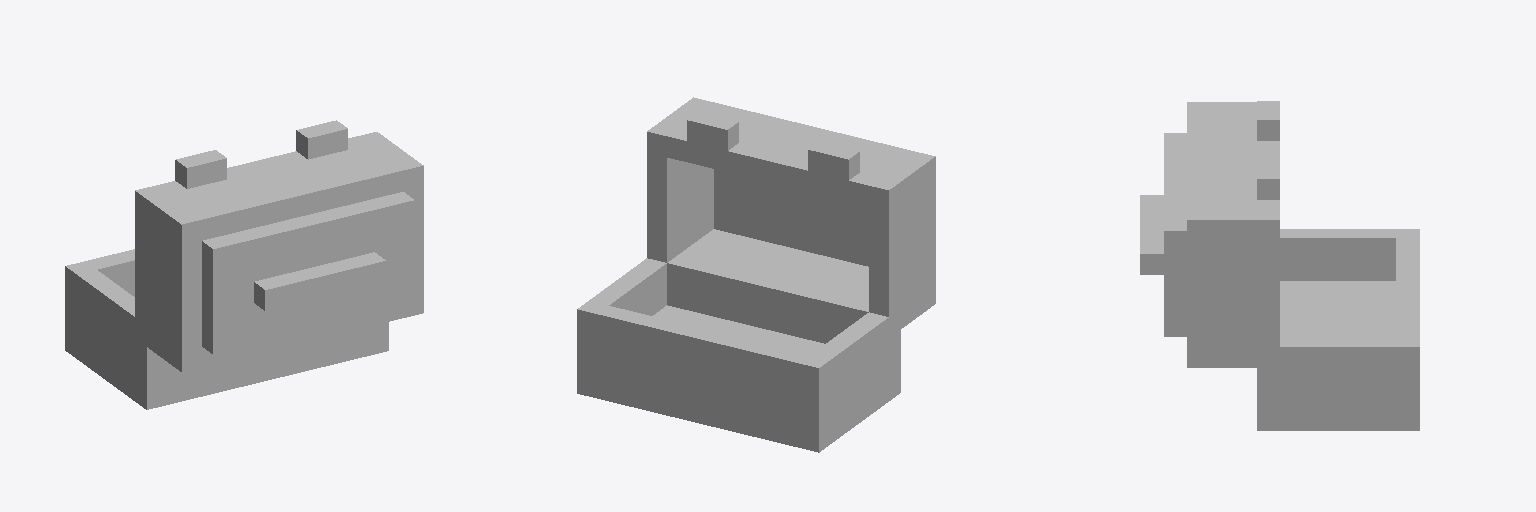
The model's file is chest open.obj.
3 views of the same model, side by side, from view 1: azimuth 30°, elevation 25°; view 2: azimuth 150°, elevation 25°; view 3: azimuth 270°, elevation 25° (orthographic).
Parts seen in each view (by area): view 1: object 1; view 2: object 1; view 3: object 1.
Part boxes in pixels (x1,y1,x2,y2): object 1: (65,120,423,409); object 1: (577,97,935,452); object 1: (1140,101,1419,430).
Bounding box in the file's own units: 1.2 × 1.1 × 1.2.